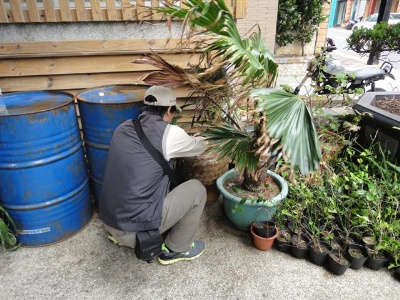bucket: (1, 91, 94, 250)
